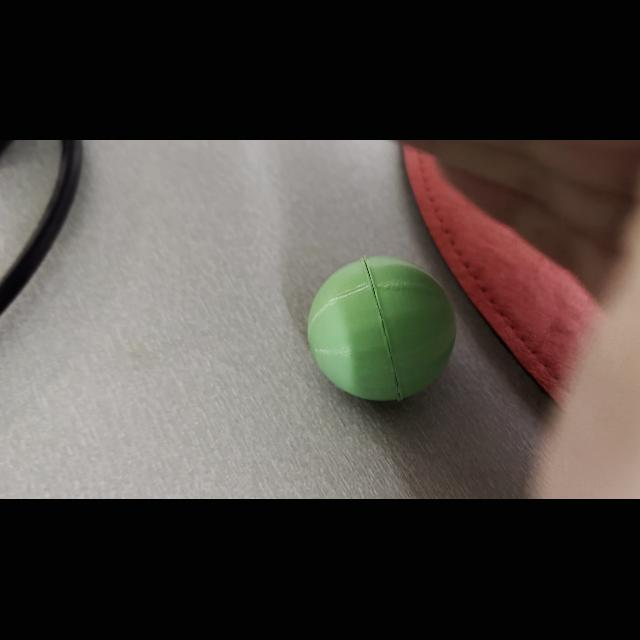objects: (300, 248, 462, 417)
